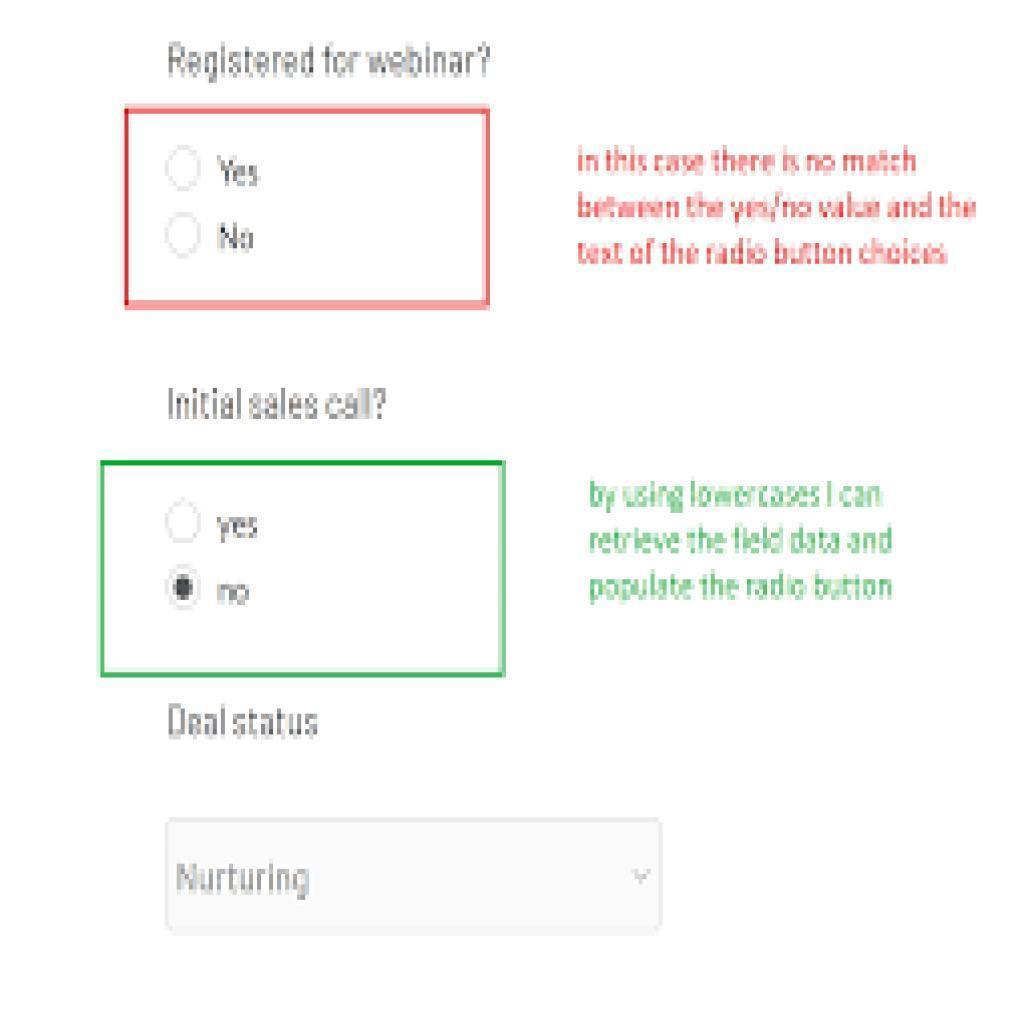dropdown: (174, 821, 665, 934)
label: (161, 32, 494, 93), (158, 379, 394, 430), (158, 699, 321, 742), (212, 148, 265, 187), (212, 506, 265, 544), (209, 573, 258, 609), (216, 223, 260, 255)
radio: (164, 491, 206, 546), (162, 141, 205, 194), (163, 563, 206, 609), (164, 209, 202, 260)
